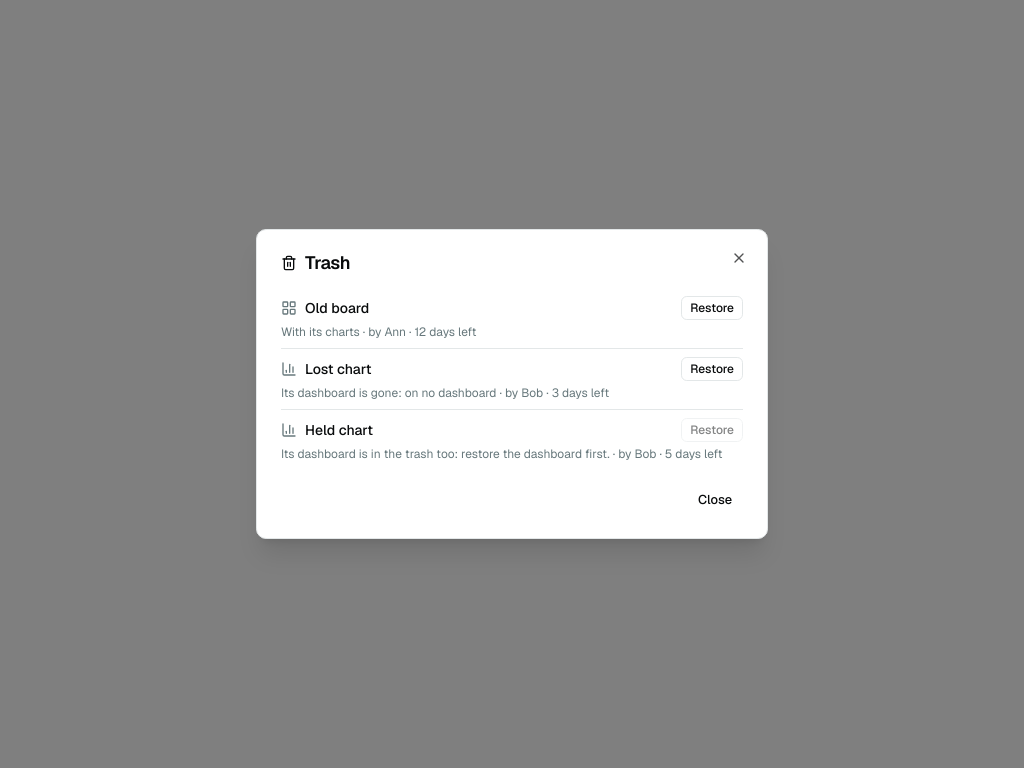
TrashDialog › shows the refusal when the item is not in the trash any more
Click the button "Restore" in the row of "Old board".
click(712, 308)  # box [681,296,743,320]
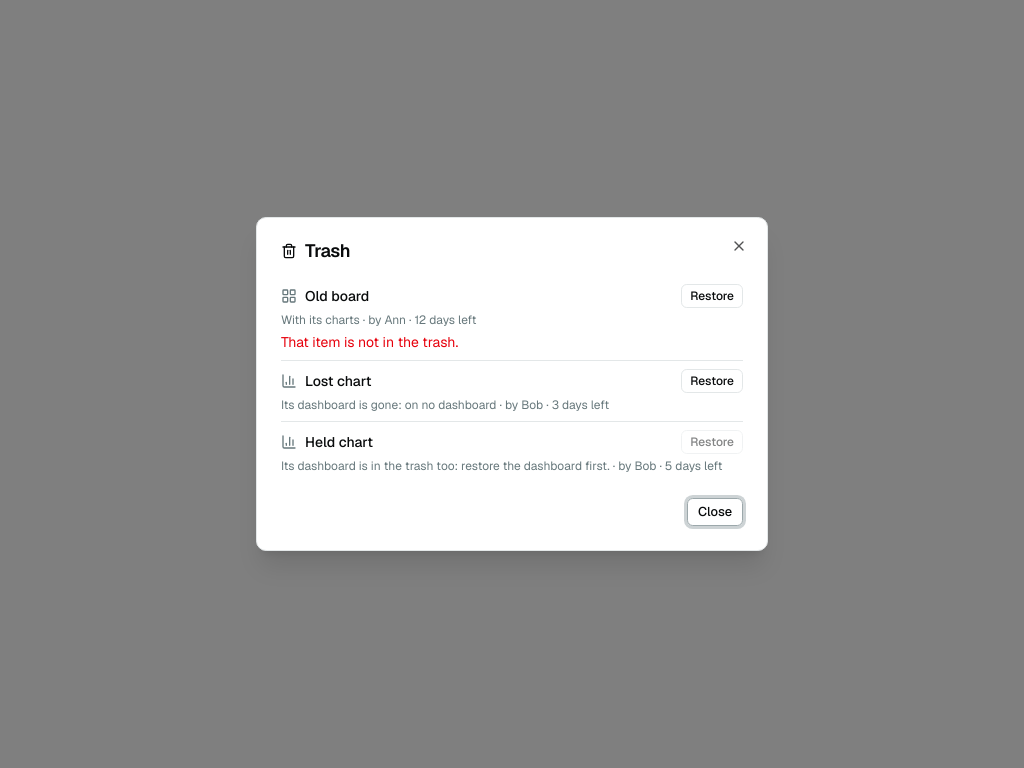
Result: the message shows "not in the trash" at [281,333,458,351]
